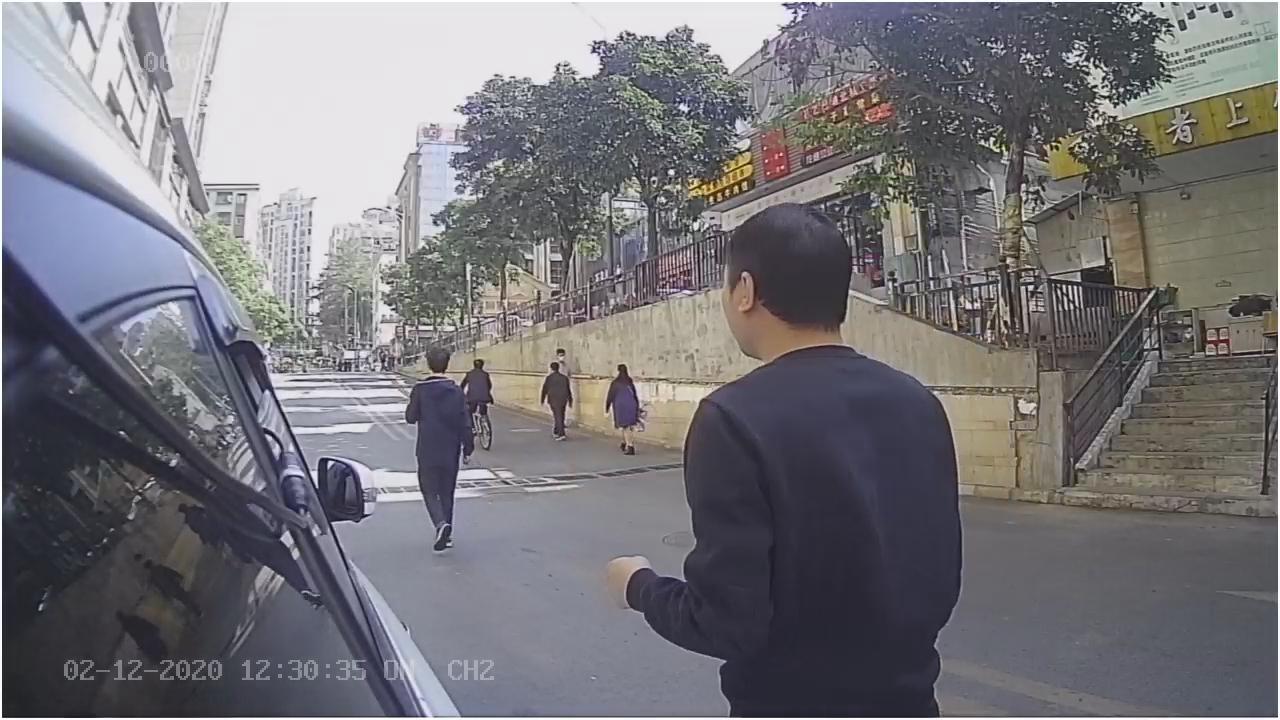person: (681, 197, 965, 537)
